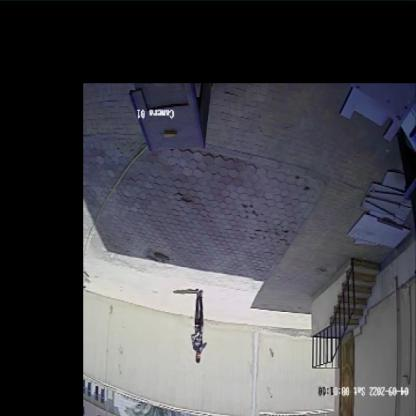handgun: (195, 314, 206, 341)
